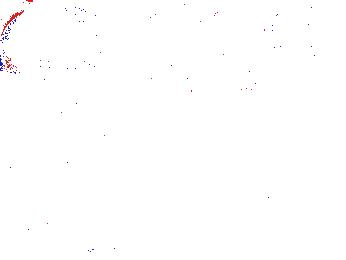moon jellyfish: (262, 1, 346, 99), (11, 1, 125, 69), (129, 3, 219, 66), (219, 12, 273, 92)
